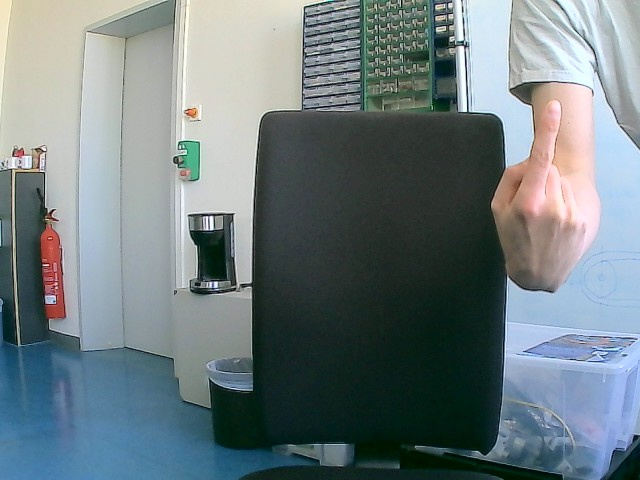up: (489, 98, 602, 294)
